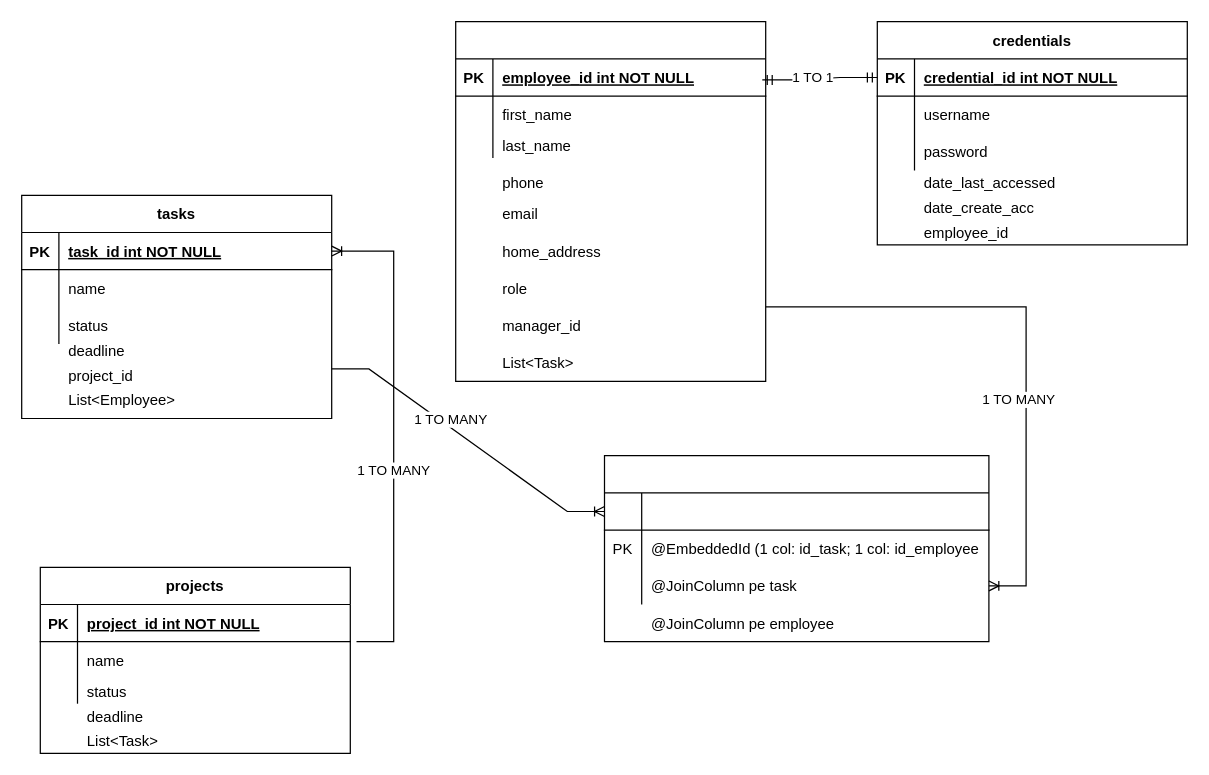
Image size: 1209x775. Some labels were removed from this diagram. The box of each missing label's shape, as (x1, y1, x2, y2) in pixels:
employees: (454, 20, 766, 381)
employees_tasks: (603, 454, 989, 642)
